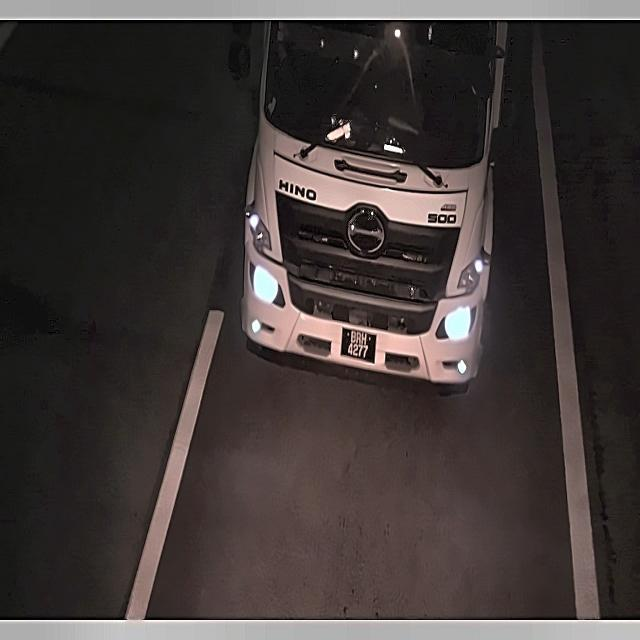car: (339, 321, 378, 372)
